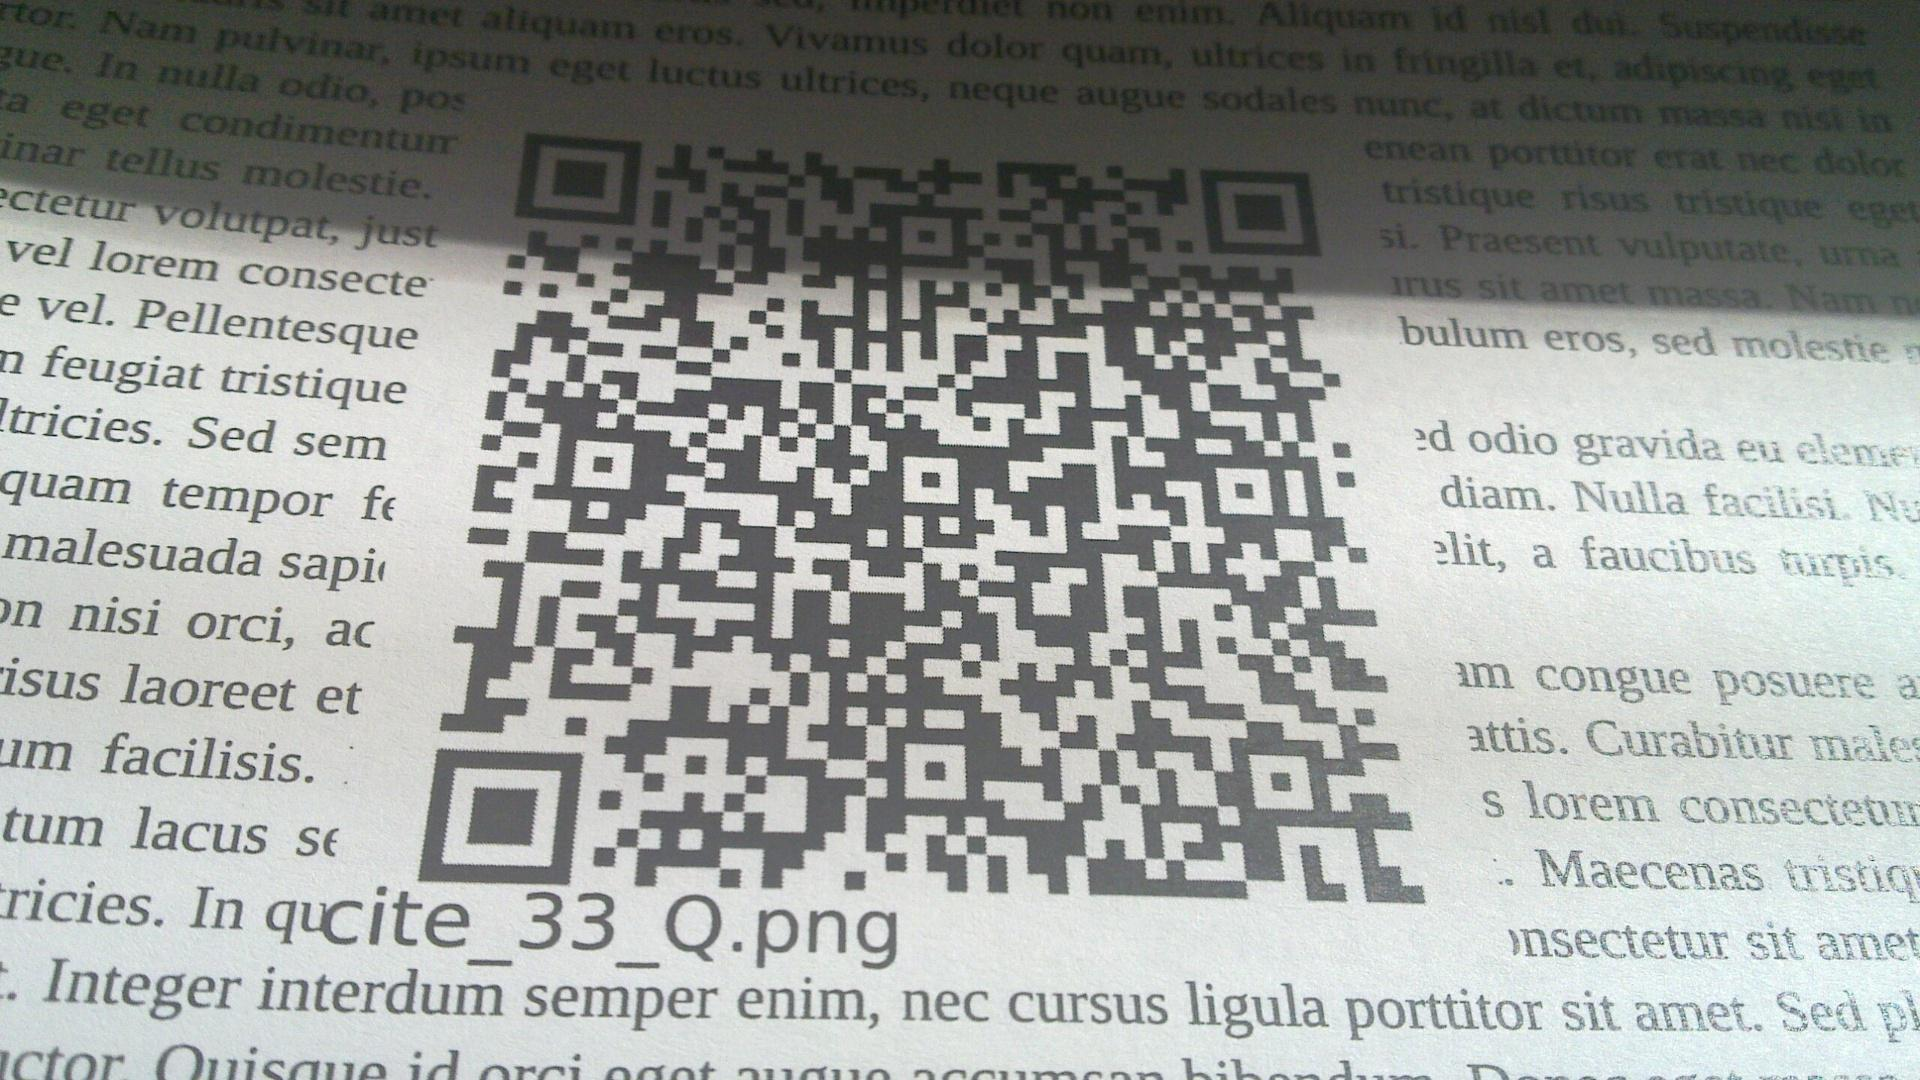Finder pattern: (419, 741, 585, 893), (512, 124, 647, 233), (1189, 160, 1327, 266)
